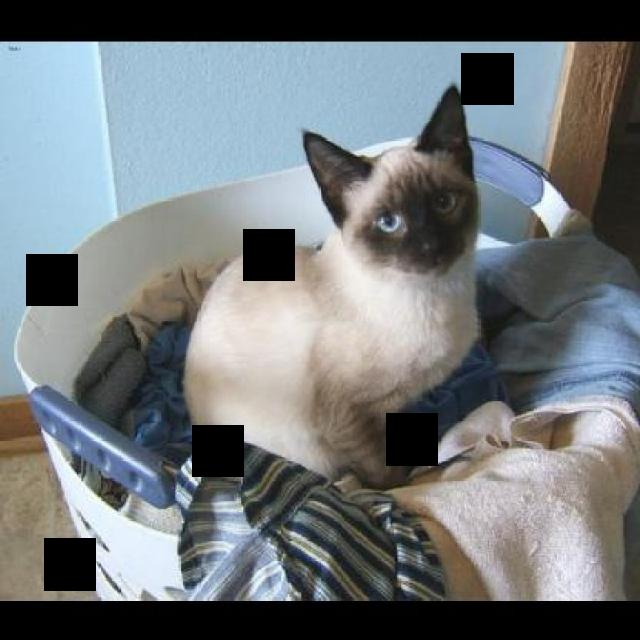unauthorized: (182, 82, 482, 489)
